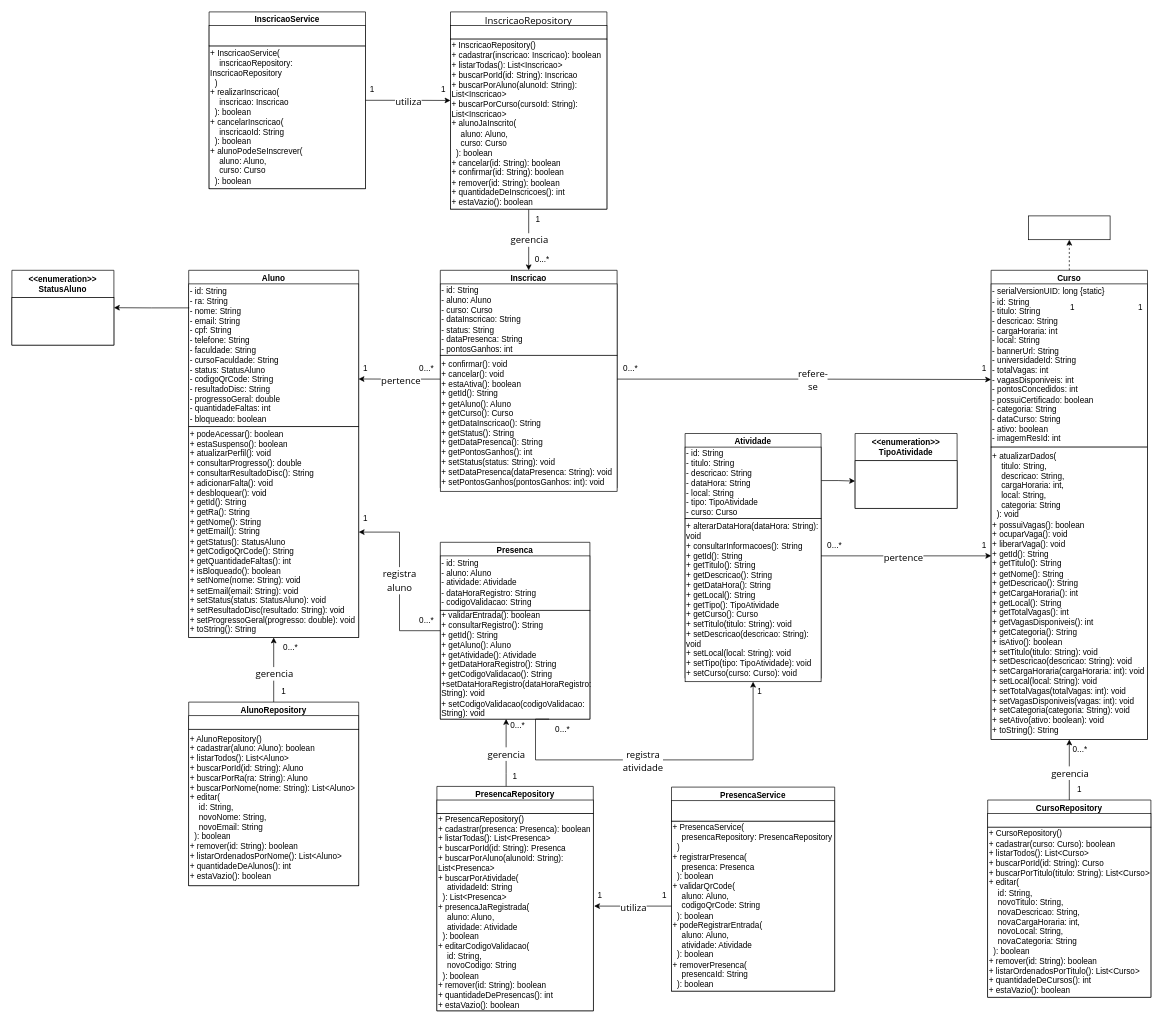
The diagram is 1163 pixels wide and 1023 high, and some of its shapes have lost their labels. The shapes that lost their labels are listed below. From the top down, each one's centre as x and y in pixels, then its label:
the point at 287,35: - inscricaoRepository: InscricaoRepository
the point at 528,32: - inscricoes: List<Inscricao>
the point at 1069,227: <<interface>> Serializable
the point at 62,321: ATIVO SUSPENSO BLOQUEADO INATIVO
the point at 905,484: AULA PALESTRA OFICINA EVENTO
the point at 273,722: - alunos: List<Aluno>
the point at 514,806: - presencas: List<Presenca>
the point at 753,810: - presencaRepository: PresencaRepository
the point at 1069,820: - cursos: List<Curso>
